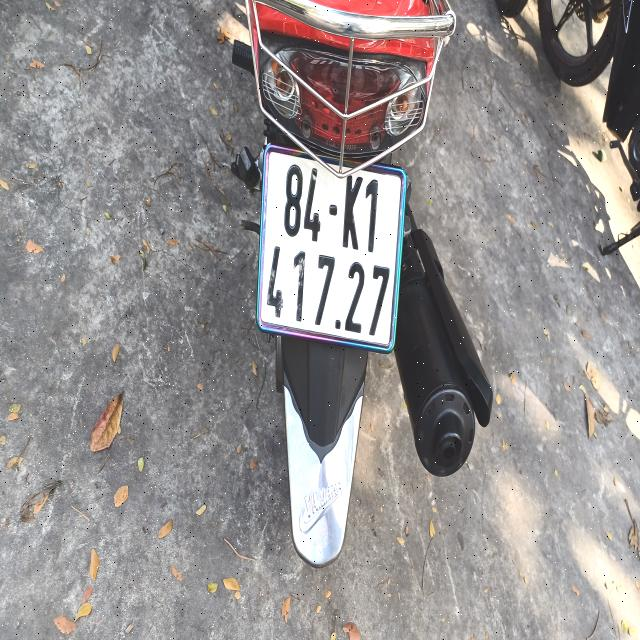1: (364, 178, 380, 250), (292, 248, 306, 322)
2: (344, 259, 366, 333)
4: (265, 242, 285, 326), (304, 168, 322, 242)
7: (369, 262, 390, 337), (316, 250, 335, 326)
8: (283, 164, 305, 240)
K: (342, 171, 363, 253)
